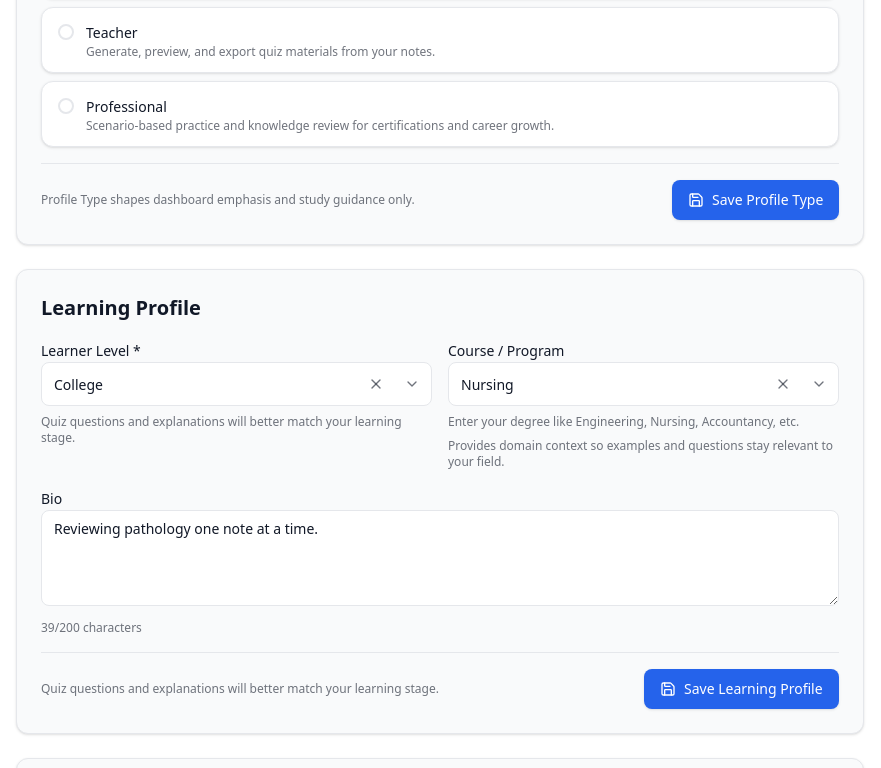
it: Profile page › saves learner level and course/program from the learning profile card
(page scrolled)
Click the button named "Toggle course program suggestions".
click(819, 384)  # box x1=799 y1=376 x2=839 y2=392
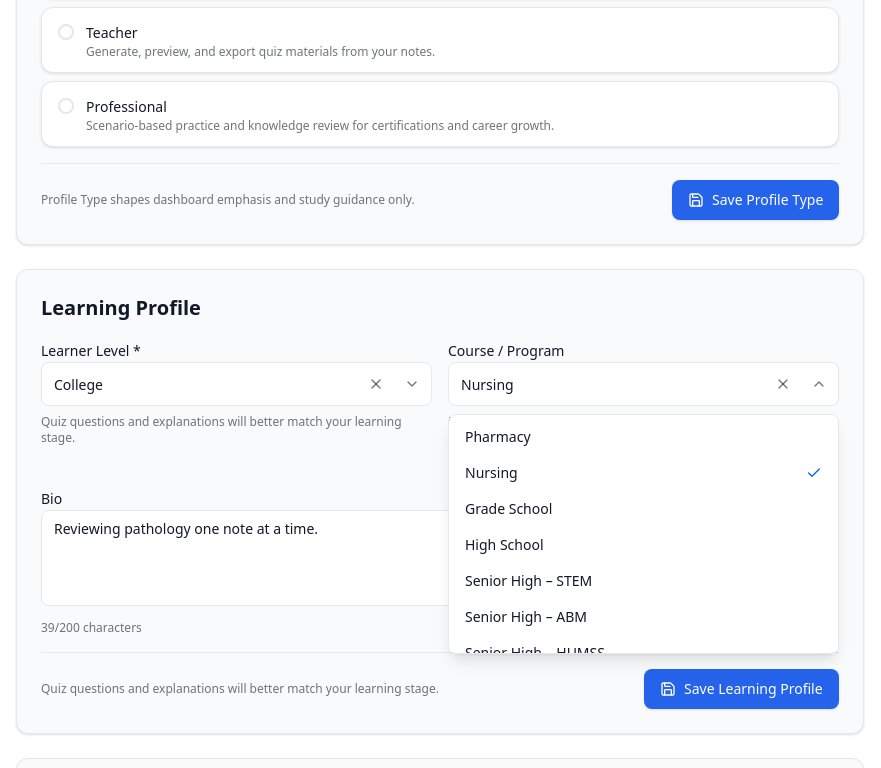
Expected: the option "Pharmacy" is shown, x1=453 y1=419 x2=834 y2=455
Replace the text in the field showing "College" with "BOARD_EXAM_REVIEW" at (236, 384), box x1=41 y1=362 x2=432 y2=406
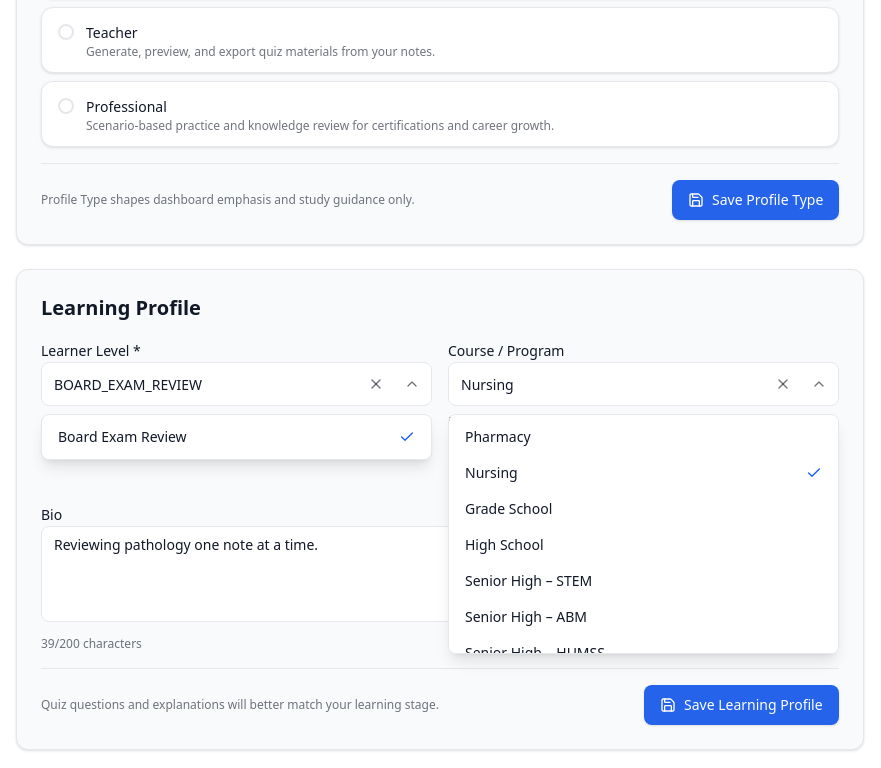
Replace the text in the field showing "Nursing" with "Pharmacy" at (644, 384), box x1=448 y1=362 x2=839 y2=406
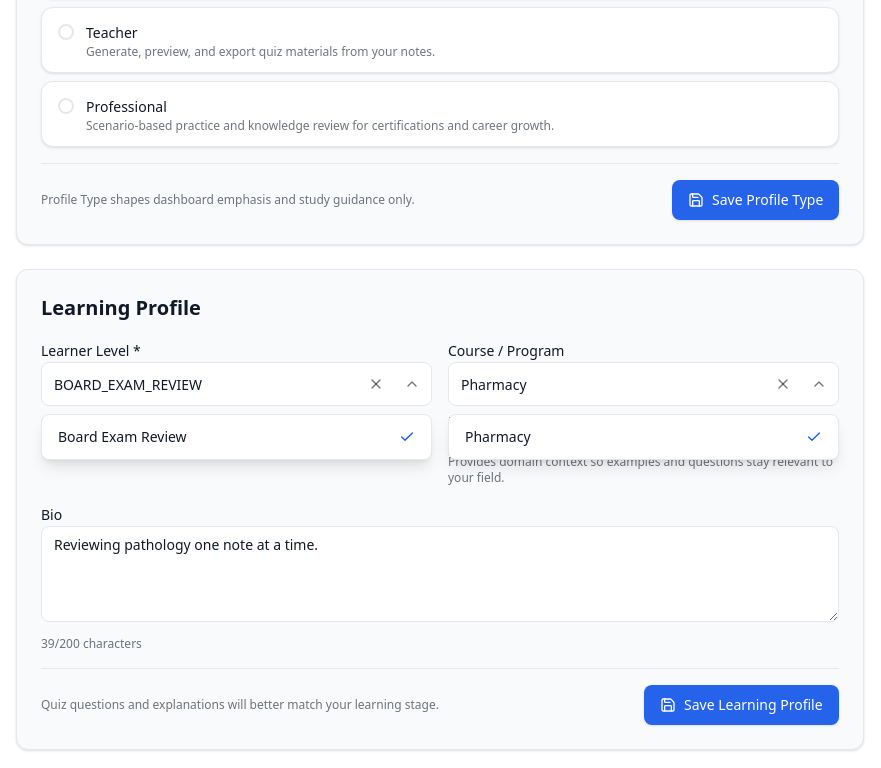
Replace the text in the text box labelled "Bio" with "Board review focus with pharmacology notes." at (440, 574), box x1=41 y1=526 x2=839 y2=622
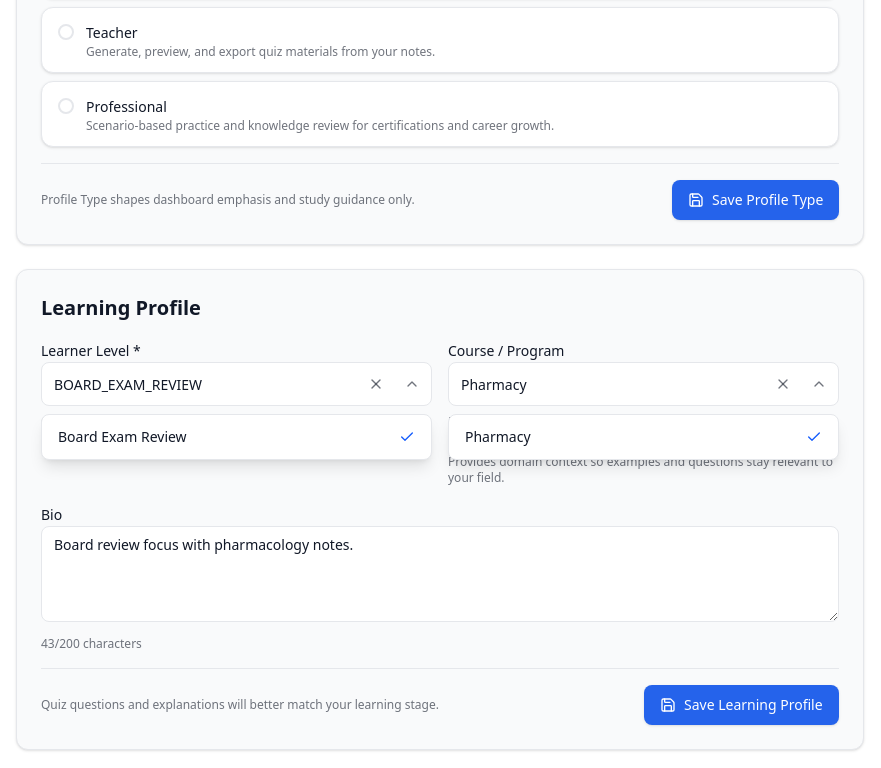
Click the button "Save Learning Profile".
click(742, 705)  # box x1=644 y1=685 x2=839 y2=725
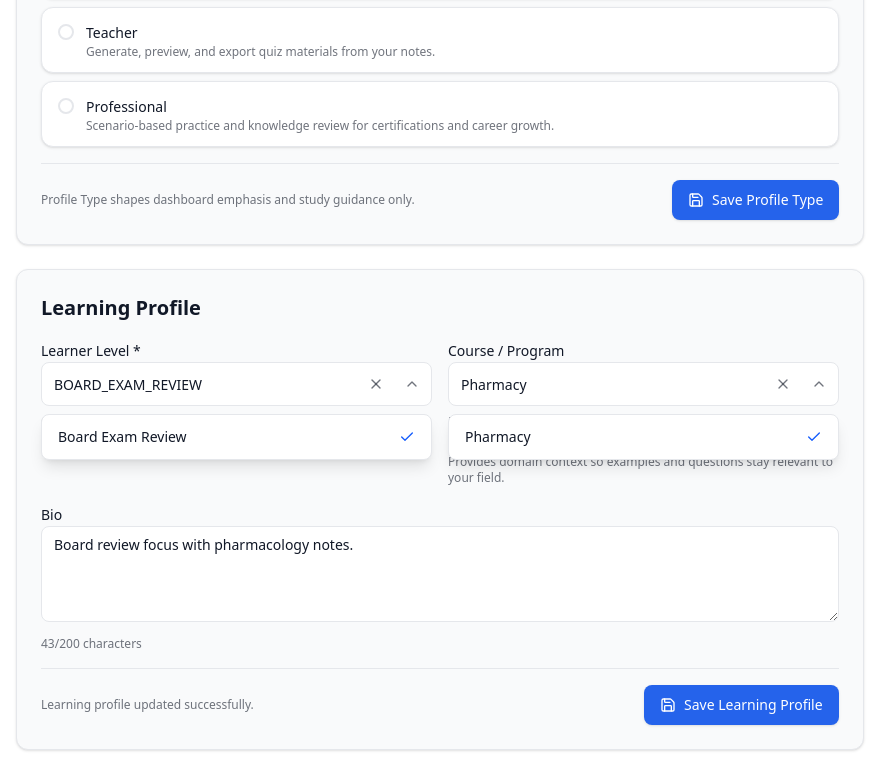
Expected: the text "Learning profile updated successfully." is shown, x1=41 y1=697 x2=254 y2=713
